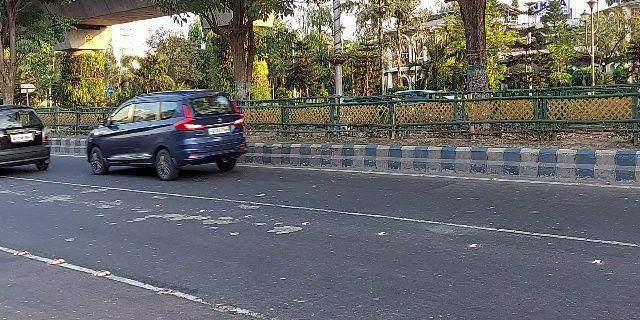Car: (83, 86, 248, 180), (1, 104, 51, 177)
